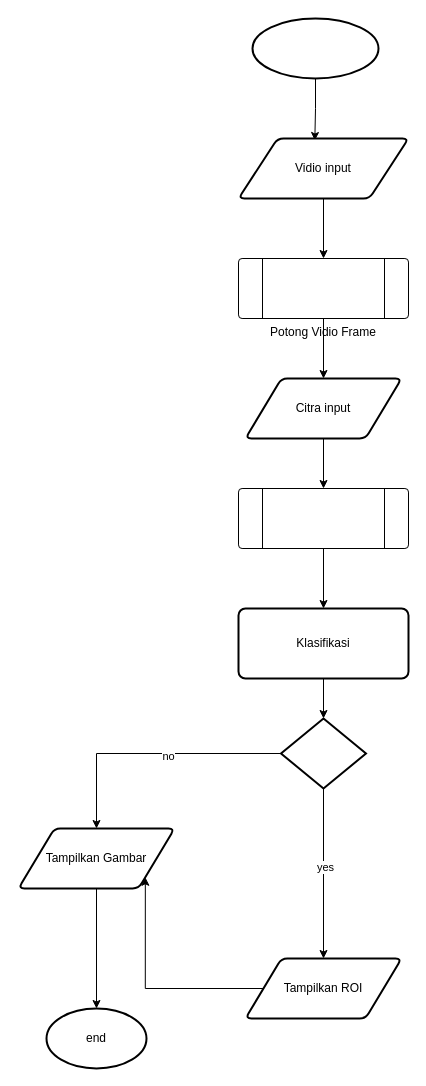
Image size: 426x1086. Some labels were removed from this diagram. Here are the shapes that lost their labels. From the top down, the centre of each, then its label:
At point (315, 48): "mulai".
At point (323, 518): "preprocess citra".
At point (323, 753): "Terdeteksi".
